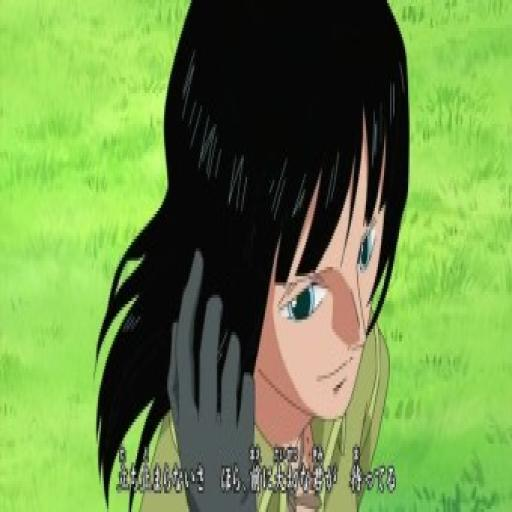NicoRobin: (148, 3, 411, 428)
